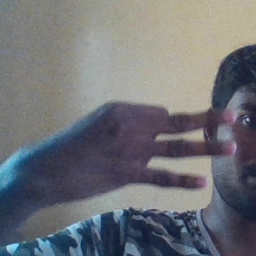K: (42, 99, 237, 195)
